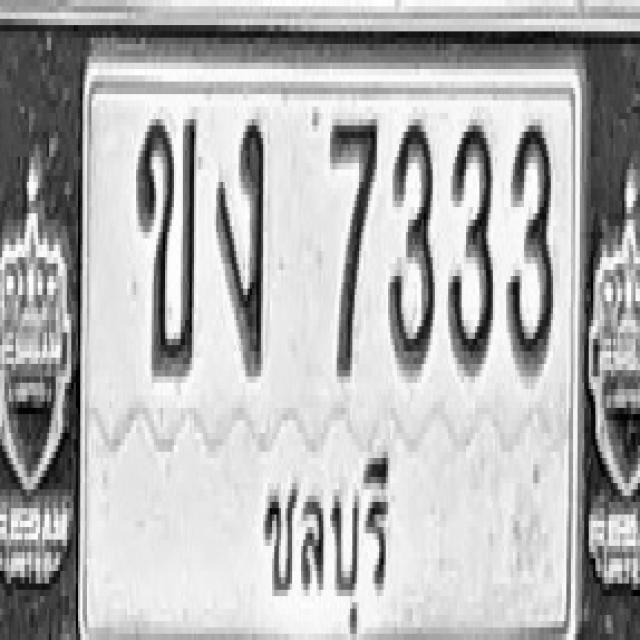11KhorKhai: (135, 113, 197, 376)
16NgorNgu: (215, 116, 264, 373)
3: (506, 119, 553, 377), (388, 116, 435, 373), (448, 116, 493, 373)
7: (328, 113, 377, 376)
Chonburi: (251, 430, 400, 640)
